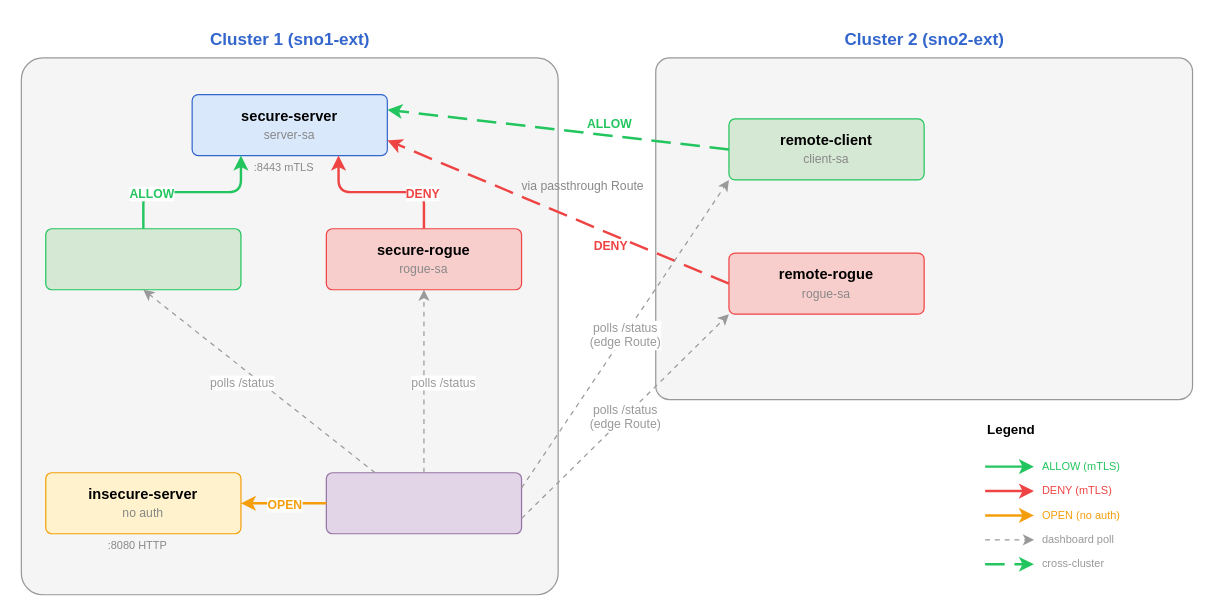
The diagram is 1214 pixels wide and 616 high, and some of its shapes have lost their labels. The shapes that lost their labels are listed below. From the top down, each one's centre as x and y in pixels, then its label:
At (x=143, y=259): "secure-client client-sa".
At (x=423, y=503): "dashboard web UI".
